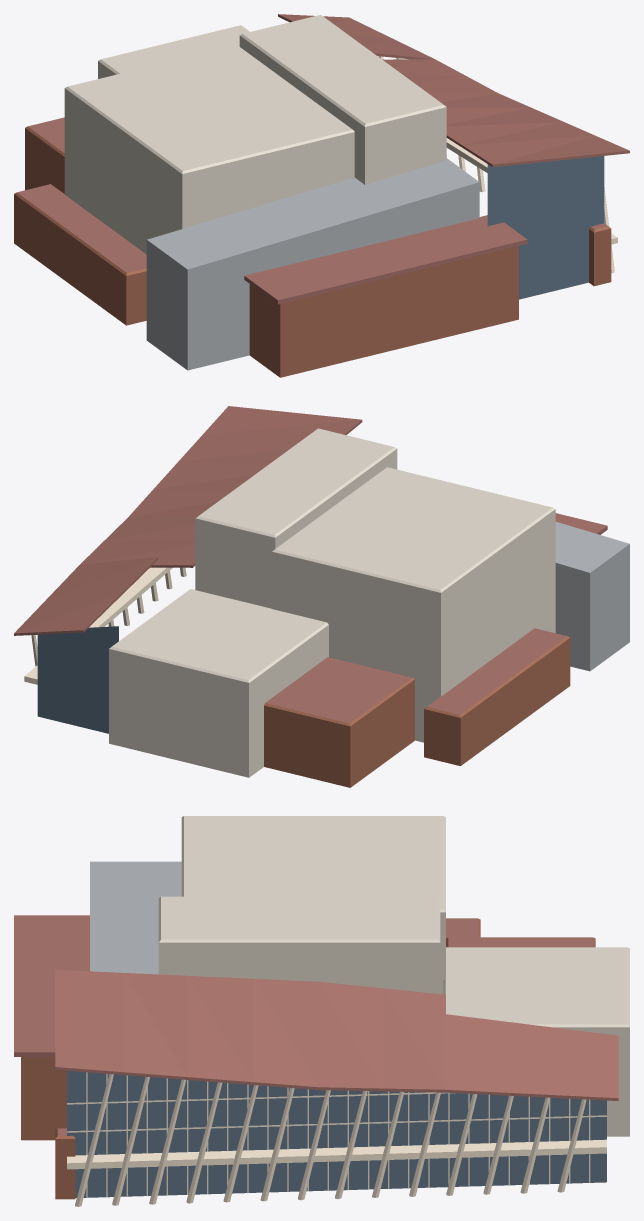
File: hou-hobby-center.glb
3 renders of one model, top to bottom at view 1: azimuth 30°, elevation 25°; view 2: azimuth 150°, elevation 25°; view 3: azimuth 270°, elevation 25°, orthographic. The views are drawn at different scales.
Parts seen in each view (by area): view 1: Hobby Center for the Performing Arts; view 2: Hobby Center for the Performing Arts; view 3: Hobby Center for the Performing Arts.
Part boxes in pixels (x1,y1,x2,y2): Hobby Center for the Performing Arts: (14,14,629,377); Hobby Center for the Performing Arts: (14,406,629,787); Hobby Center for the Performing Arts: (14,816,629,1206).
Size of the model in its own units: 96.52 by 37.2 by 107.
